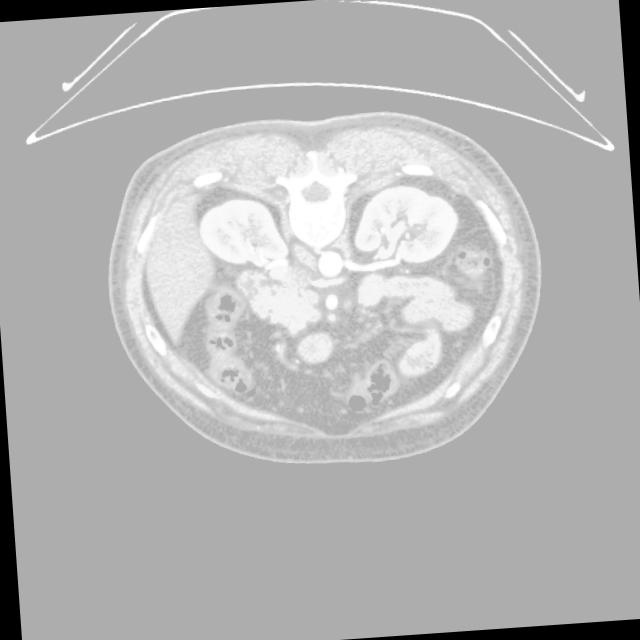NORMAL: (100, 119, 554, 465)
